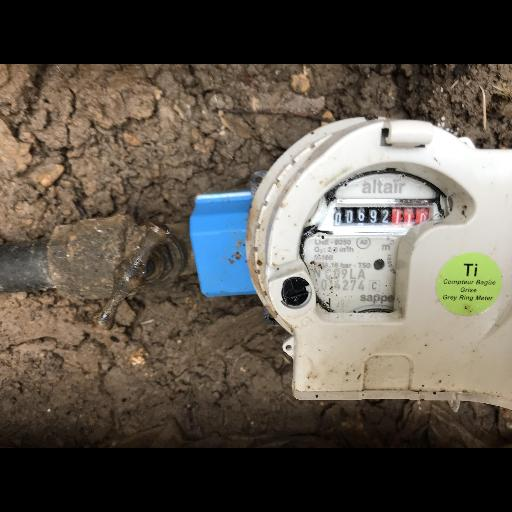0: (413, 207, 429, 226), (334, 208, 345, 227), (345, 208, 356, 226)
1: (390, 208, 404, 227), (404, 206, 415, 226)
2: (379, 207, 391, 226)
6: (356, 208, 368, 226)
9: (367, 208, 379, 227)
border_water_meter_number: (327, 198, 439, 234)
